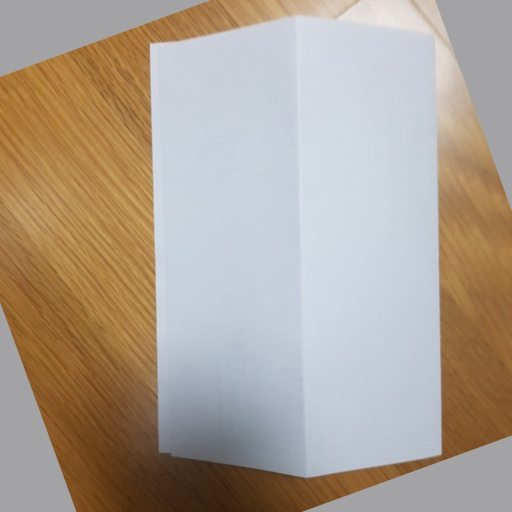Paper_3: (142, 13, 457, 483)
